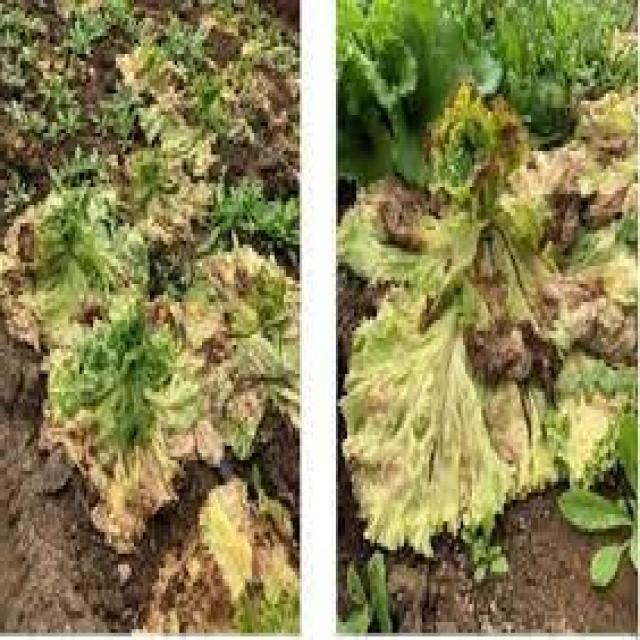Wilt_and_leaf_blight_on_lettuce: (363, 92, 622, 464), (40, 261, 264, 485)
